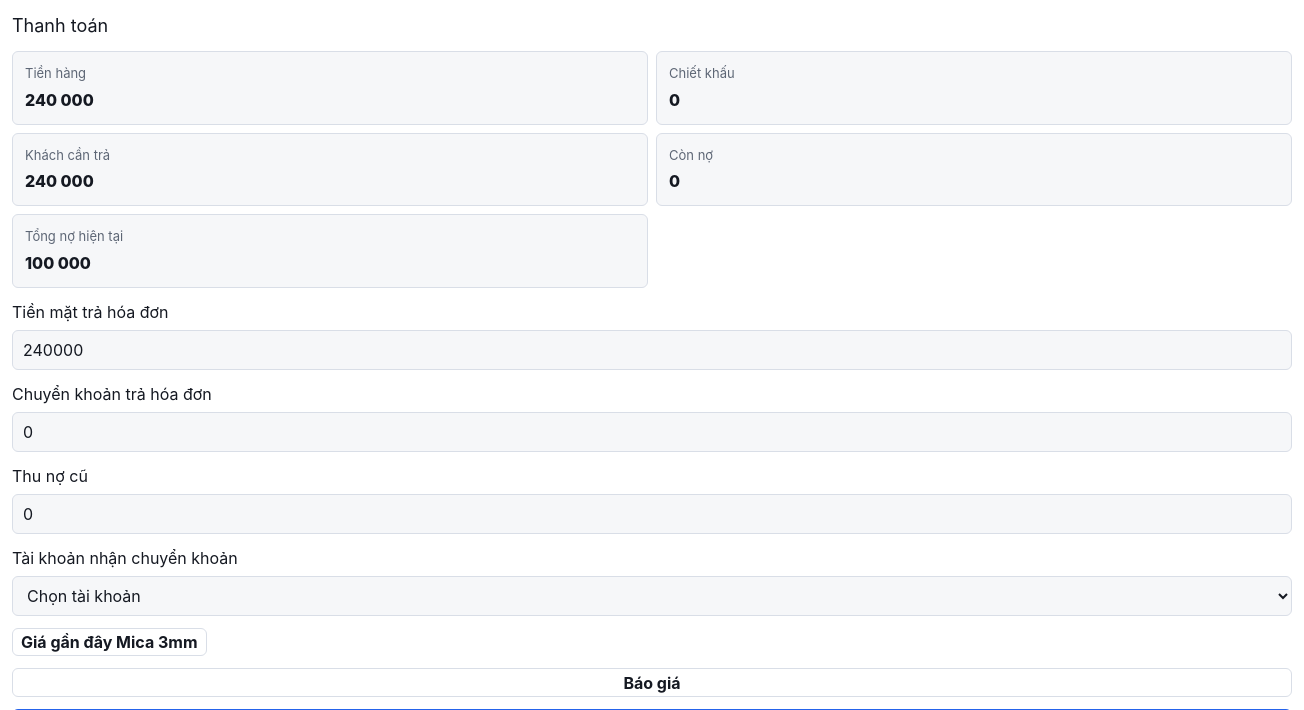
offers recent prices for the selected customer and product
This screenshot has width=1304, height=710.
What coordinates should you click on to do the following:
click the button "Giá gần đây Mica 3mm"
I would click on:
 (109, 642)
Its box is left=12, top=628, right=206, bottom=656.
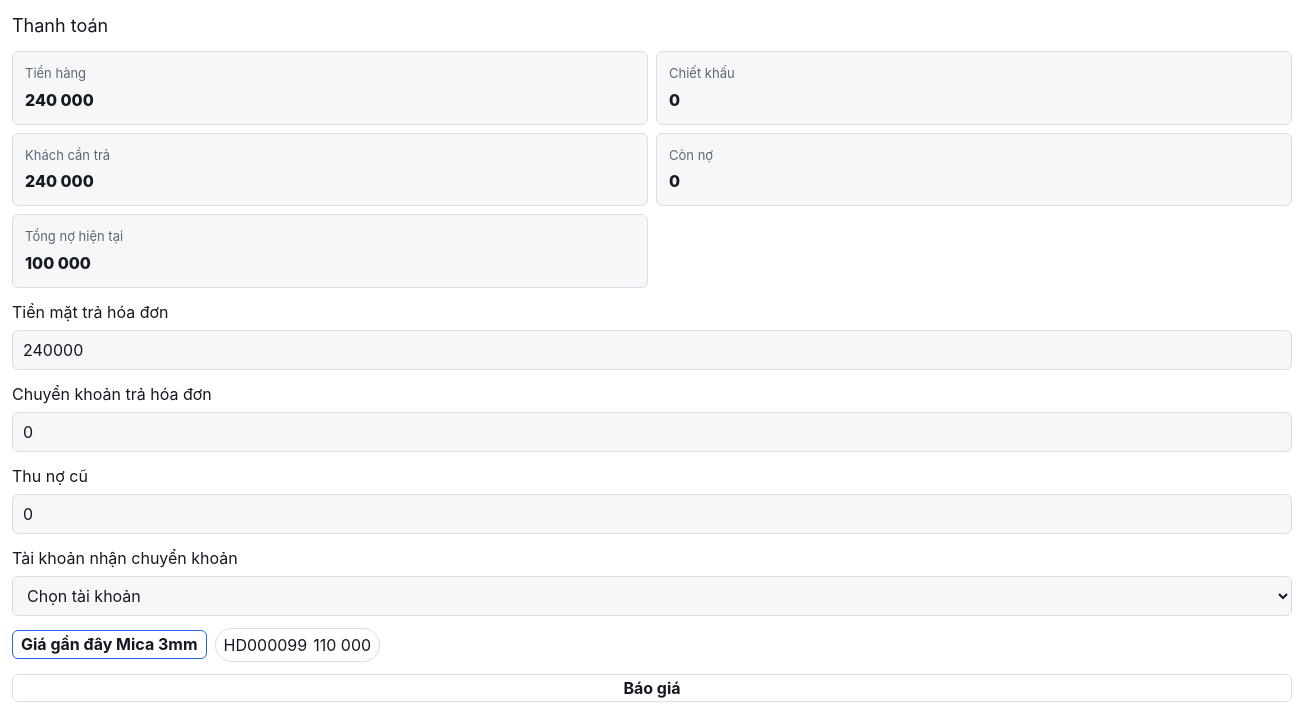
Check: the text "HD000099" is shown, box left=224, top=632, right=307, bottom=656
Check: the text "110 000" is shown, box left=313, top=632, right=371, bottom=656
